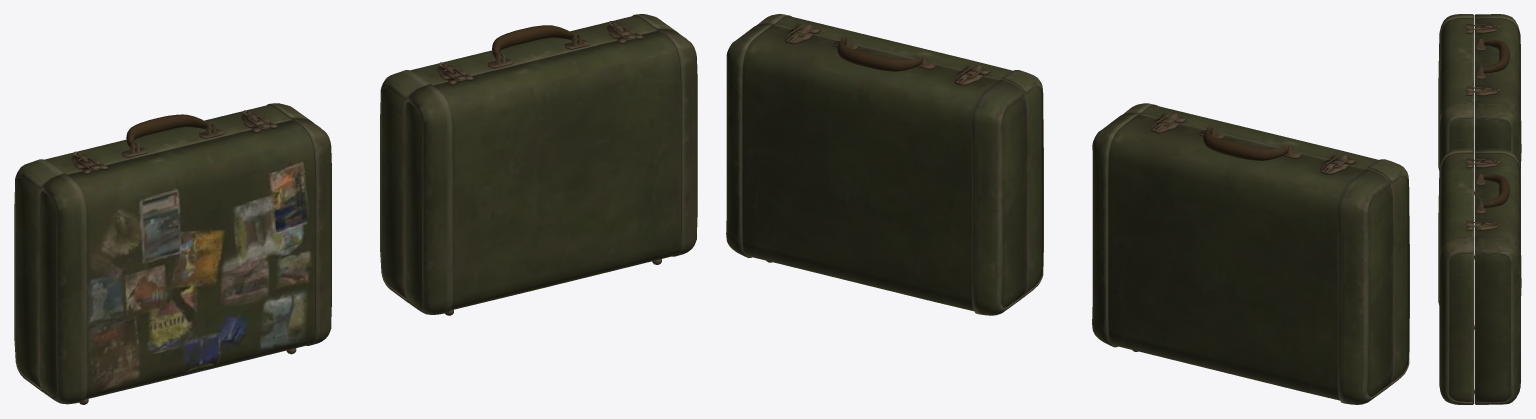
Rendered from vintage_suitcase.glb.
The picture shows the model from 3 angles, left to right: view 1: azimuth 30°, elevation 25°; view 2: azimuth 150°, elevation 25°; view 3: azimuth 270°, elevation 25°; orthographic projection. The views are drawn at different scales.
Parts seen in each view (by area): view 1: vintage_suitcase_02_bottom, vintage_suitcase_01_bottom; view 2: vintage_suitcase_01_bottom, vintage_suitcase_02_bottom; view 3: vintage_suitcase_01_bottom, vintage_suitcase_02_bottom.
Part boxes in pixels (x1=…): vintage_suitcase_02_bottom: x1=14, y1=103, x2=331, y2=404; vintage_suitcase_01_bottom: x1=380, y1=14, x2=697, y2=315; vintage_suitcase_01_bottom: x1=726, y1=14, x2=1043, y2=315; vintage_suitcase_02_bottom: x1=1092, y1=103, x2=1409, y2=404; vintage_suitcase_01_bottom: x1=1438, y1=148, x2=1521, y2=404; vintage_suitcase_02_bottom: x1=1438, y1=14, x2=1521, y2=259.
Bounding box in the file's own units: 1.61 × 0.5679 × 0.2388.
2 materials, 2 textured.
